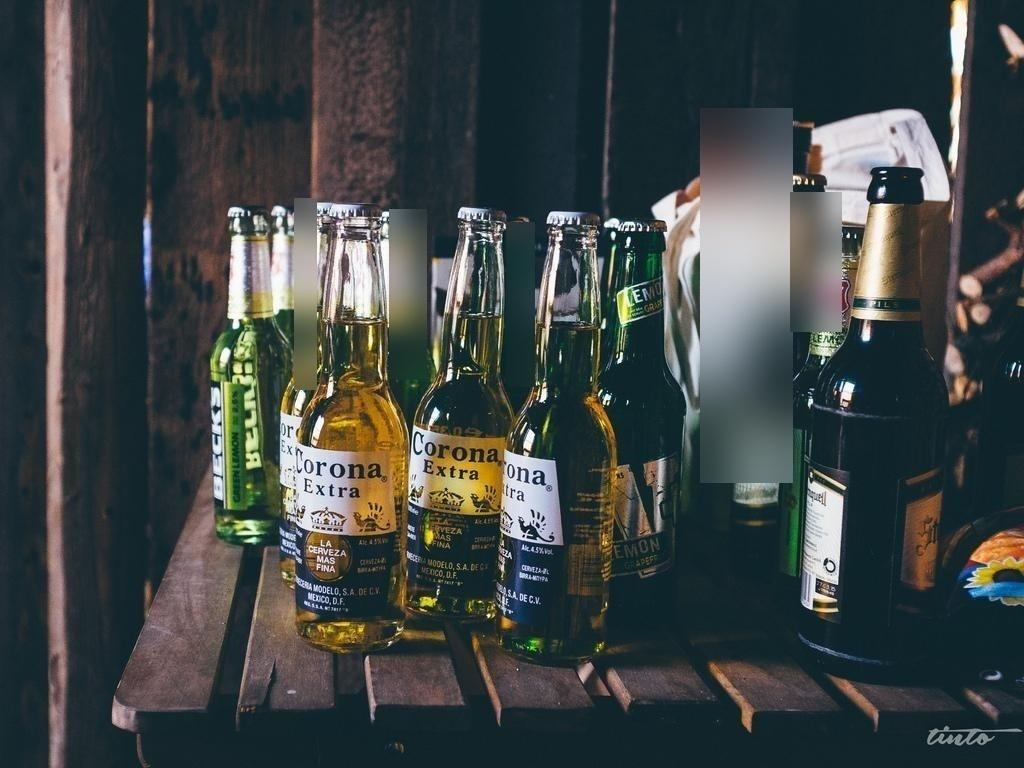bottle-glass: (795, 160, 951, 650), (498, 211, 623, 670), (293, 202, 410, 658), (396, 202, 517, 625), (605, 214, 688, 625), (210, 207, 288, 547)
